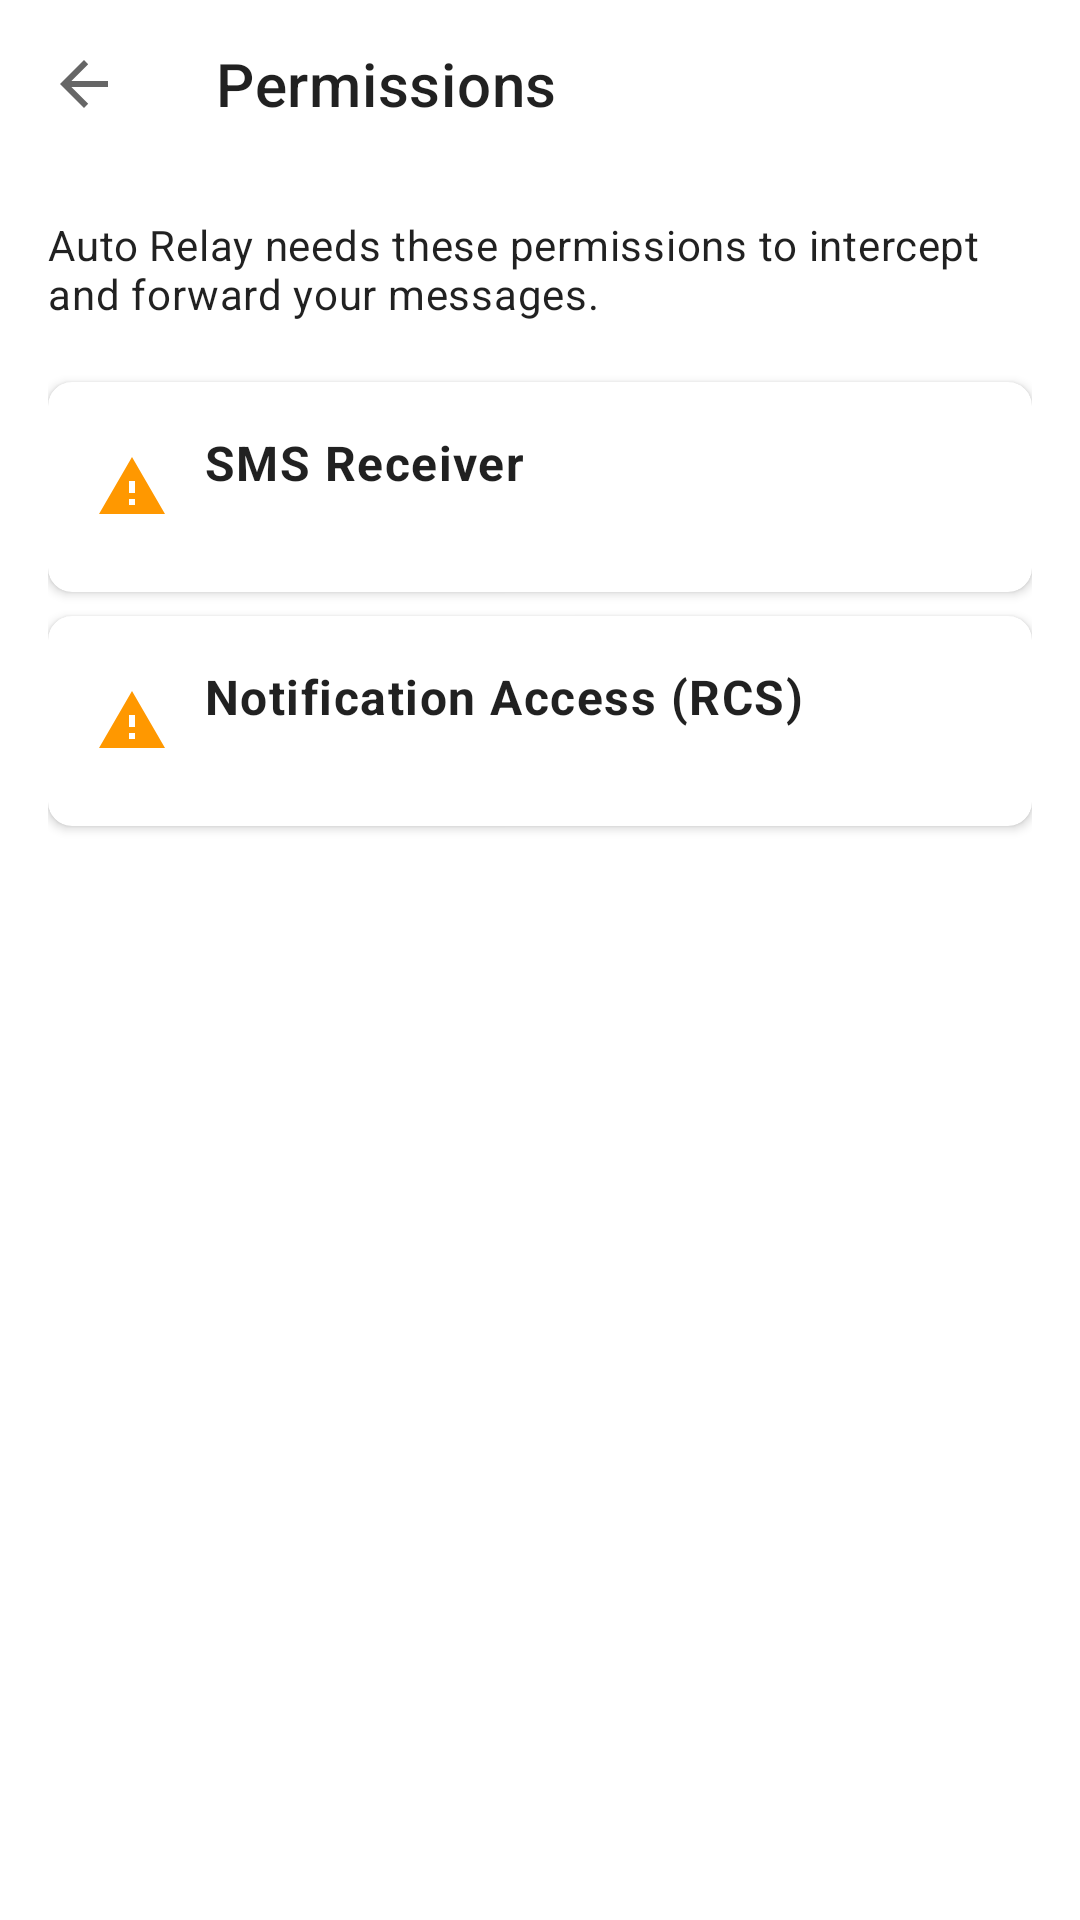

Where to tap for icons on this 1080w x 1920h app screen, as [x,y]:
status error: [132,485], [132,719]
